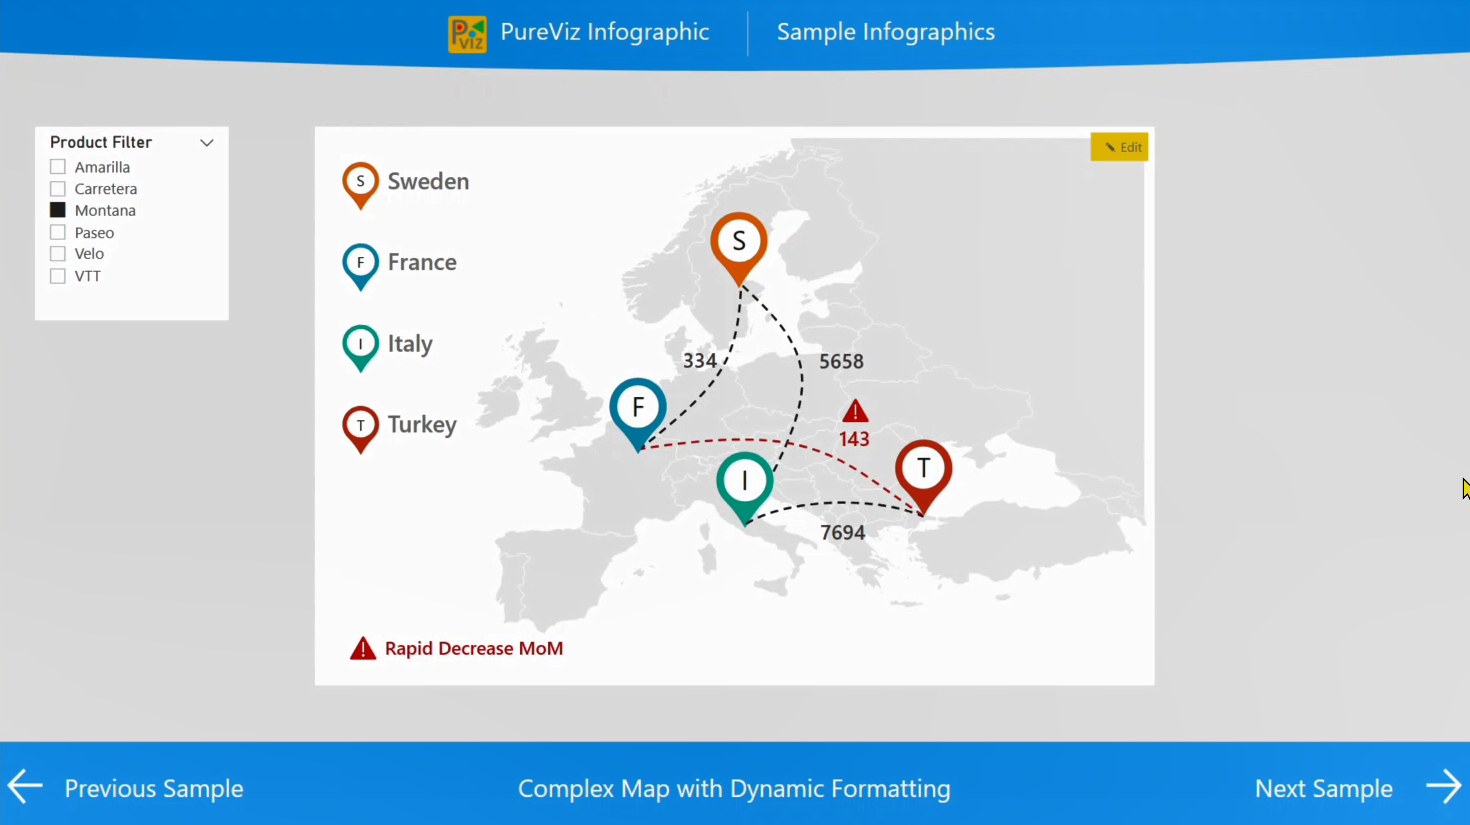

This screenshot's page, from the dashboard's own definition file:
{"tool":"powerbi","page":{"name":"3","canvas":[1280,720],"ordinal":2},"visuals":[{"type":"slicer","fields":{"Values":["financials.Product"]},"box":[36.4,112.8,167.4,167.4],"z":0},{"type":"pureVizInfographicC9801BF222134D2D83FA9C41861F3482","fields":{"dataset":["Sum(financials.Budget)","Sum(financials. Sales)","Min(financials.Country)","Sum(financials.Quantity)","financials.VTB","financials.YoY","Min(financials.Product)","financials.Eficiency %","Count(financials.Product)"]},"box":[255.4,111.6,766.2,438.9],"z":1000},{"type":"actionButton","box":[1072,654,208,57.1],"z":2000},{"type":"actionButton","box":[0,654,233.2,57.1],"z":3000},{"type":"actionButton","box":[299.9,654,681.1,57.1],"z":4000}]}

Visuals, with their boxes on the page's 1280x720 design canvas (x1, y1, x2, y2). These are canvas units, not pixel positions in the 1470x825 screenshot, which may show the page scaled, cropped or inside an application window:
slicer - financials.Product: bbox(36, 113, 204, 280)
pureVizInfographicC9801BF222134D2D83FA9C41861F3482 - Sum(financials.Budget) x Sum(financials. Sales): bbox(255, 112, 1022, 550)
actionButton: bbox(1072, 654, 1280, 711)
actionButton: bbox(0, 654, 233, 711)
actionButton: bbox(300, 654, 981, 711)
